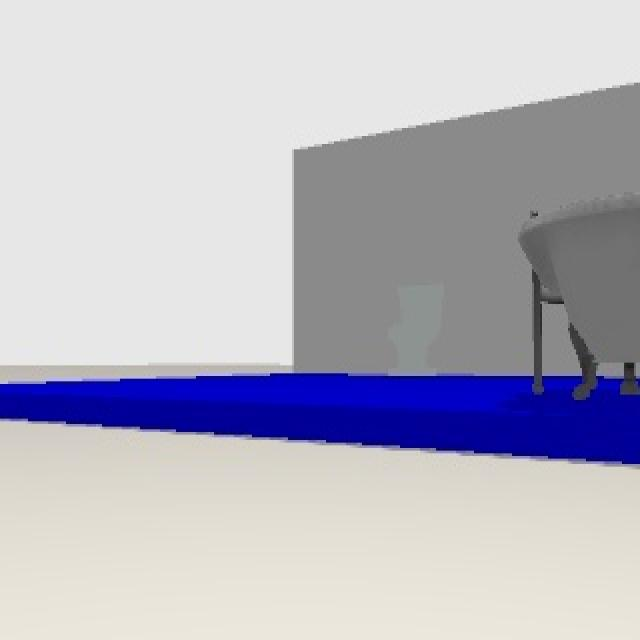bathtub: (521, 204, 640, 406)
